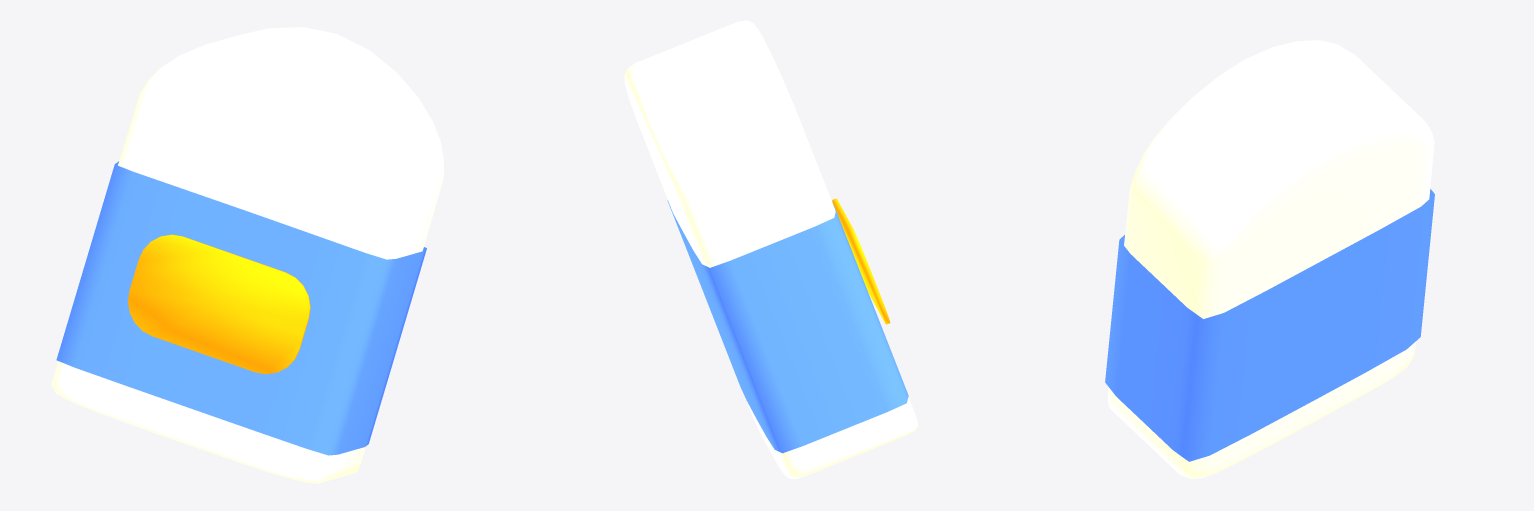
The model's file is Eraser.glb.
3 renders of one model, left to right at view 1: azimuth 30°, elevation 25°; view 2: azimuth 150°, elevation 25°; view 3: azimuth 270°, elevation 25°, orthographic.
Parts seen in each view (by area): view 1: Eraser_ball; view 2: Eraser_ball; view 3: Eraser_ball.
Boxes of the visible parts, bbox=[...] form: Eraser_ball: bbox=[51, 27, 443, 483]; Eraser_ball: bbox=[624, 20, 917, 478]; Eraser_ball: bbox=[1105, 40, 1434, 478].
Size of the model in its own units: 2 by 2 by 2.
